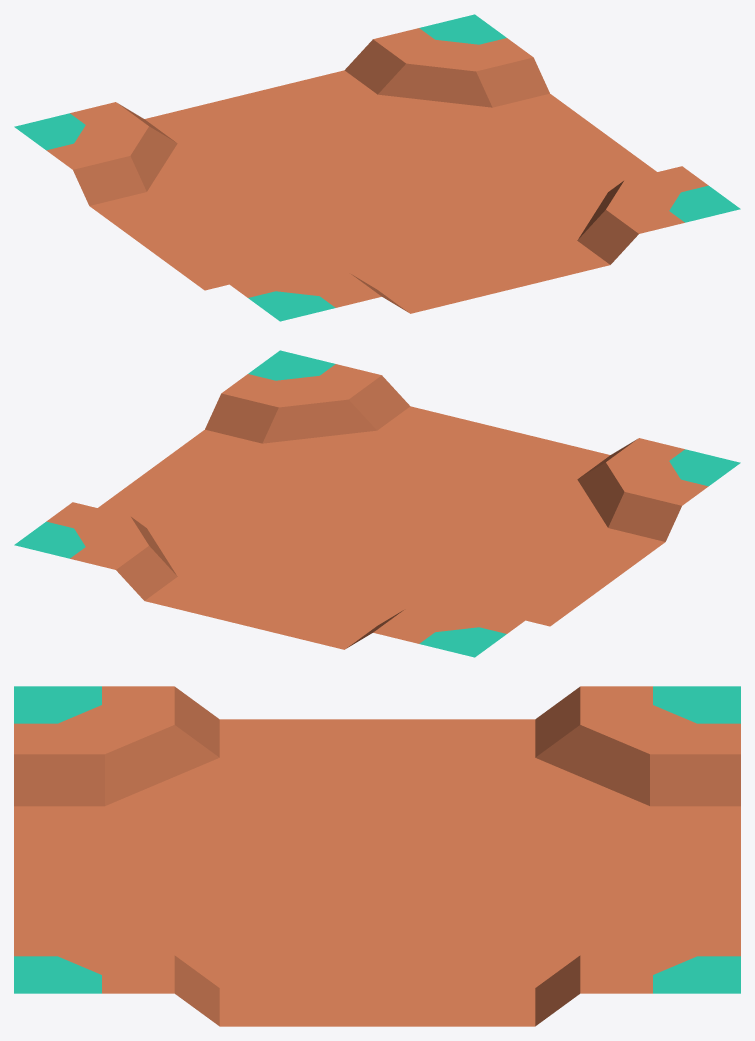
3 views of the same model, one above another, from view 1: azimuth 30°, elevation 25°; view 2: azimuth 150°, elevation 25°; view 3: azimuth 270°, elevation 25° (orthographic). The views are drawn at different scales.
Parts seen in each view (by area): view 1: ground_pathCross; view 2: ground_pathCross; view 3: ground_pathCross.
Boxes of the visible parts, x1,y1,x2,y2 form: ground_pathCross: (14,14,740,321); ground_pathCross: (14,350,740,657); ground_pathCross: (14,686,740,1026).
Size of the model in its own units: 1 by 0.05 by 1.
